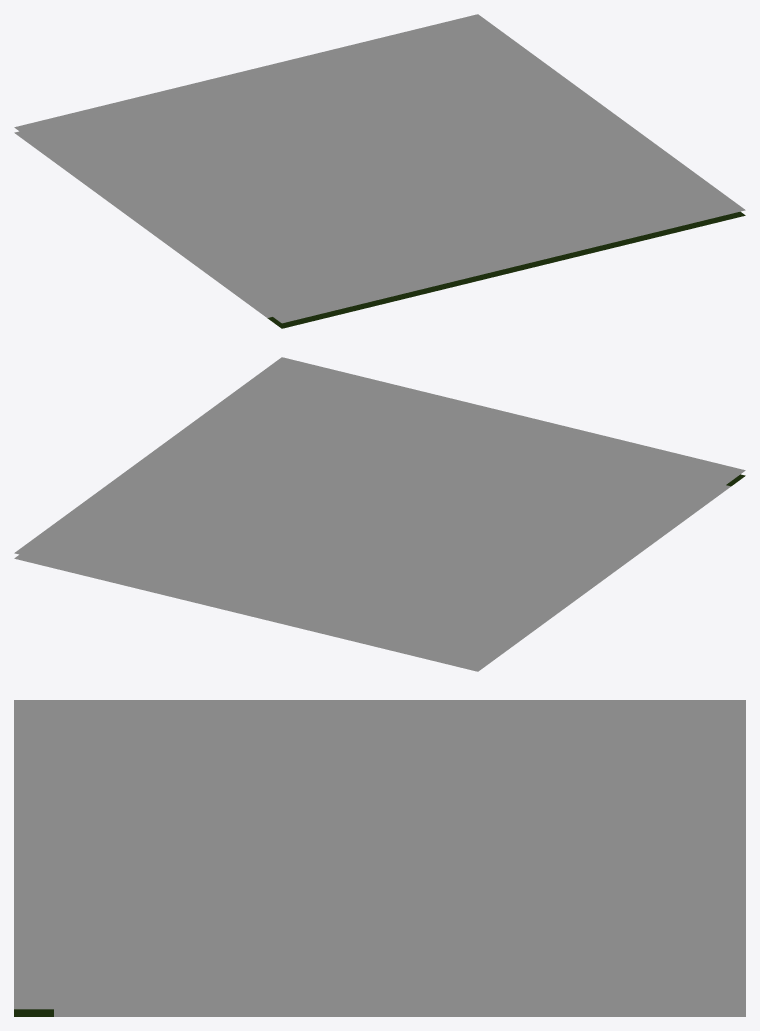
Rendered from RT PARK V01 T02 Bottom SNAP.FBX.
3 views of the same model, one above another, from view 1: azimuth 30°, elevation 25°; view 2: azimuth 150°, elevation 25°; view 3: azimuth 270°, elevation 25° (orthographic). The views are drawn at different scales.
Visible parts, largest first — view 1: Track Park V01 T02 Bottom SNAP, Track Park V01 T02 Bottom; view 2: Track Park V01 T02 Bottom SNAP, Track Park V01 T02 Bottom; view 3: Track Park V01 T02 Bottom SNAP, Track Park V01 T02 Bottom.
Part boxes in pixels (x1,y1,x2,y2): Track Park V01 T02 Bottom SNAP: (14,14,745,323); Track Park V01 T02 Bottom: (14,131,745,328); Track Park V01 T02 Bottom SNAP: (14,357,745,666); Track Park V01 T02 Bottom: (14,474,745,671); Track Park V01 T02 Bottom SNAP: (14,700,745,1009); Track Park V01 T02 Bottom: (14,1009,745,1016).
Bounding box in the file's own units: 90 × 1 × 90.
